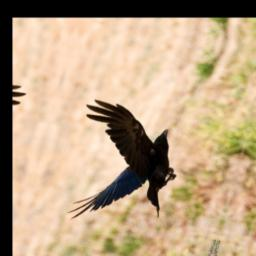Crow: (52, 95, 195, 236)
